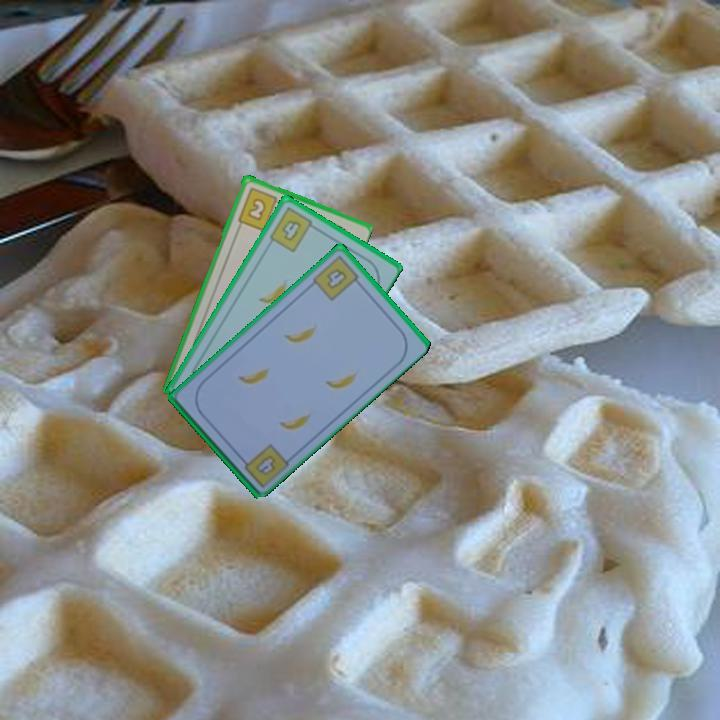2b: (234, 183, 285, 233)
4b: (265, 203, 320, 255), (309, 252, 365, 303), (252, 451, 279, 478)
